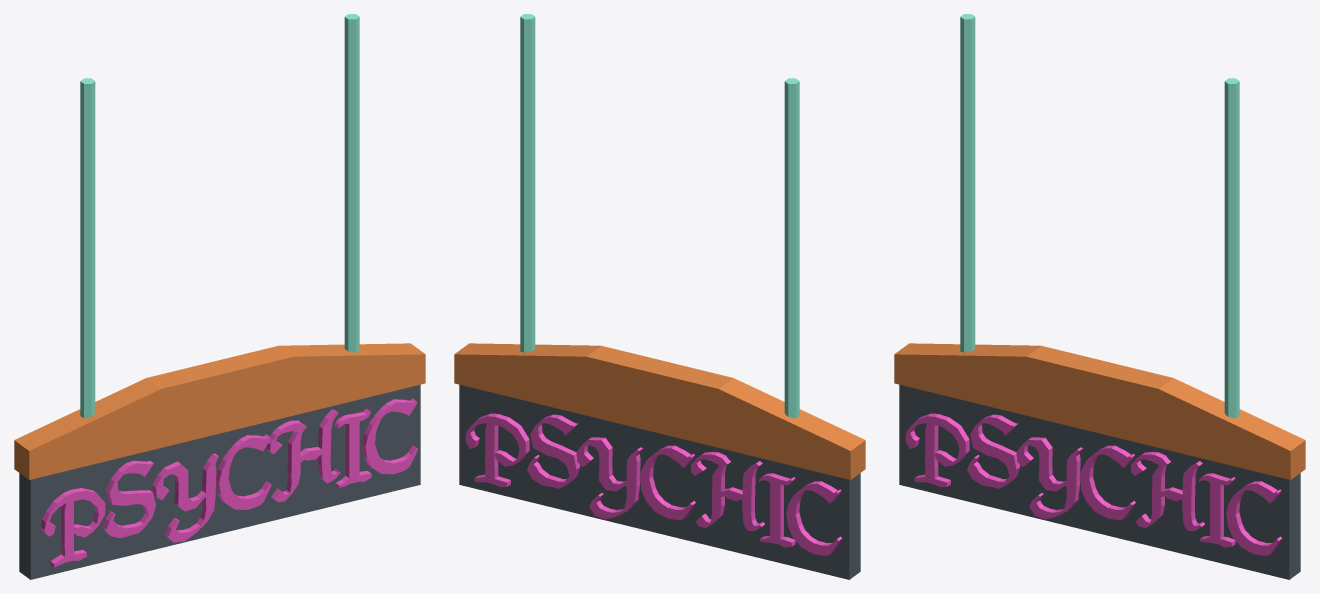
The model's file is StoreSigns.fbx_Psychic.fbx.
3 renders of one model, left to right at view 1: azimuth 30°, elevation 25°; view 2: azimuth 150°, elevation 25°; view 3: azimuth 330°, elevation 25°, orthographic.
Visible parts, largest first — view 1: Psychic; view 2: Psychic; view 3: Psychic.
Part boxes in pixels (x1,y1,x2,y2): Psychic: (14, 14, 425, 579); Psychic: (454, 14, 865, 579); Psychic: (894, 14, 1305, 579).
Size of the model in its own units: 52 by 610 by 705.
